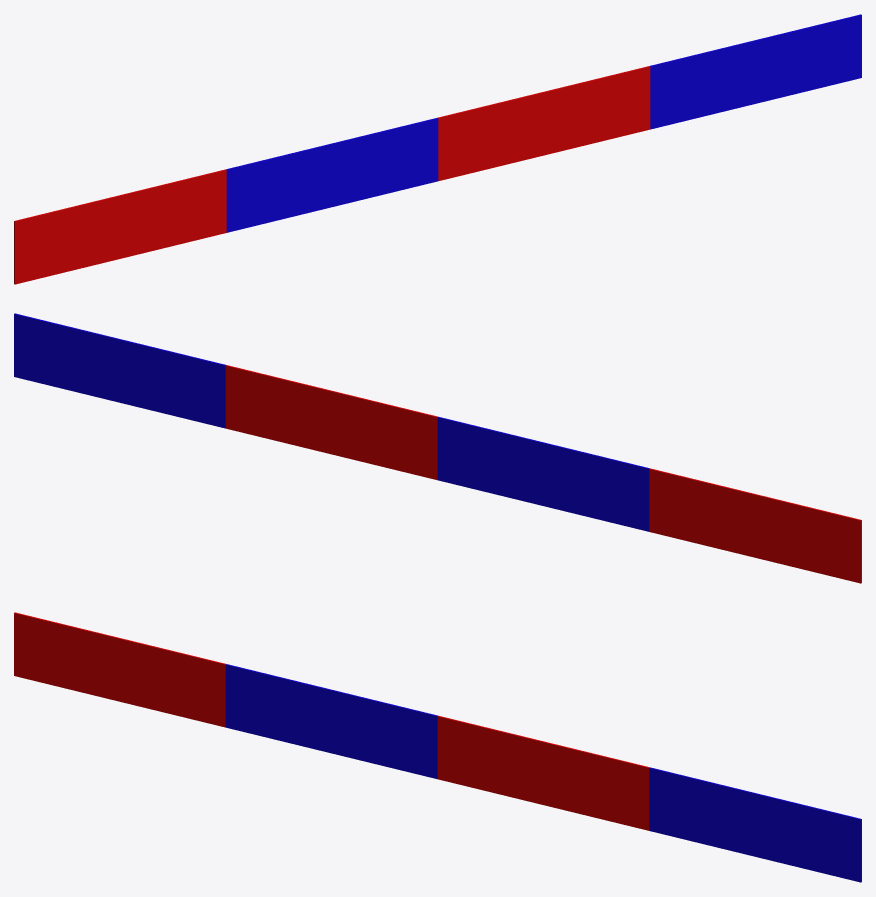
Rendered from Wall2Material.fbx.
3 views of the same model, one above another, from view 1: azimuth 30°, elevation 25°; view 2: azimuth 150°, elevation 25°; view 3: azimuth 330°, elevation 25° (orthographic).
Visible parts, largest first — view 1: 立方体.097; view 2: 立方体.097; view 3: 立方体.097.
Boxes of the visible parts, box(x1,y1,x2,y2) form: 立方体.097: box(14, 14, 861, 284); 立方体.097: box(14, 313, 861, 583); 立方体.097: box(14, 612, 861, 882).
Bounding box in the file's own units: 100091 × 7101 × 200.
